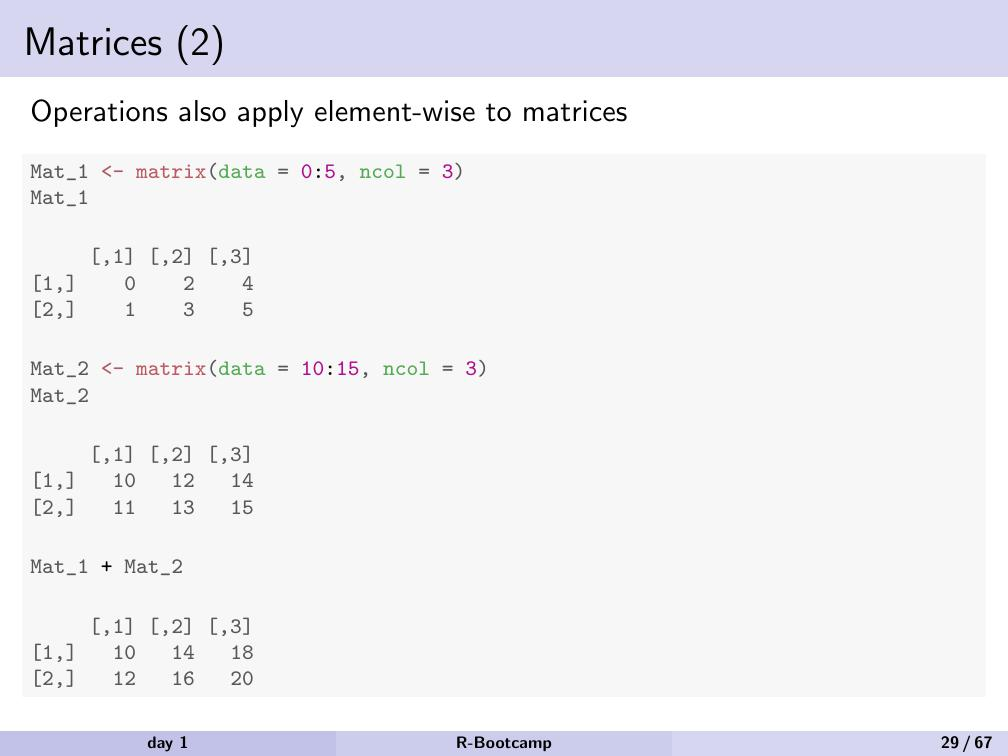Title: (16, 13, 232, 80)
